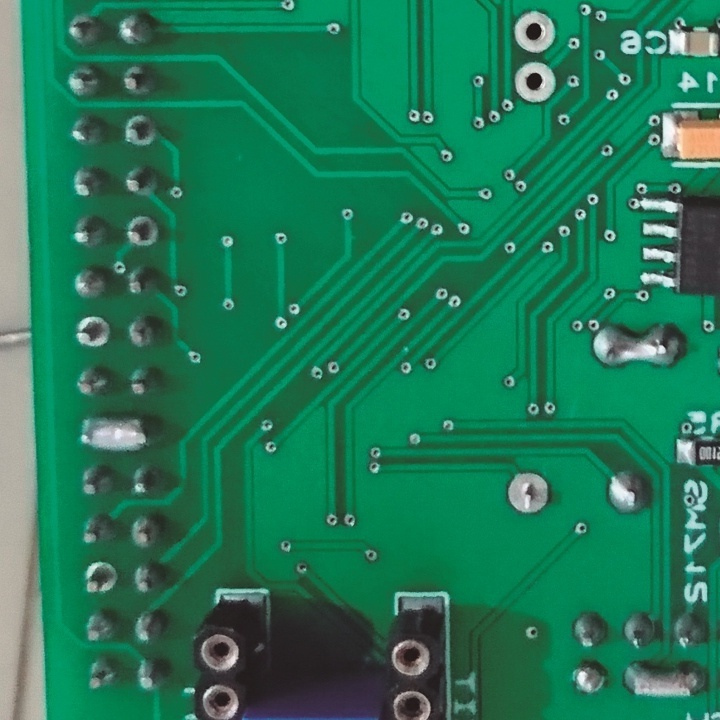F: (509, 10, 564, 55), (504, 469, 551, 516), (511, 60, 557, 106), (123, 214, 161, 252), (121, 112, 156, 153), (74, 314, 111, 352), (79, 561, 119, 596)
P: (590, 320, 685, 374), (620, 657, 707, 706), (73, 415, 161, 453)
